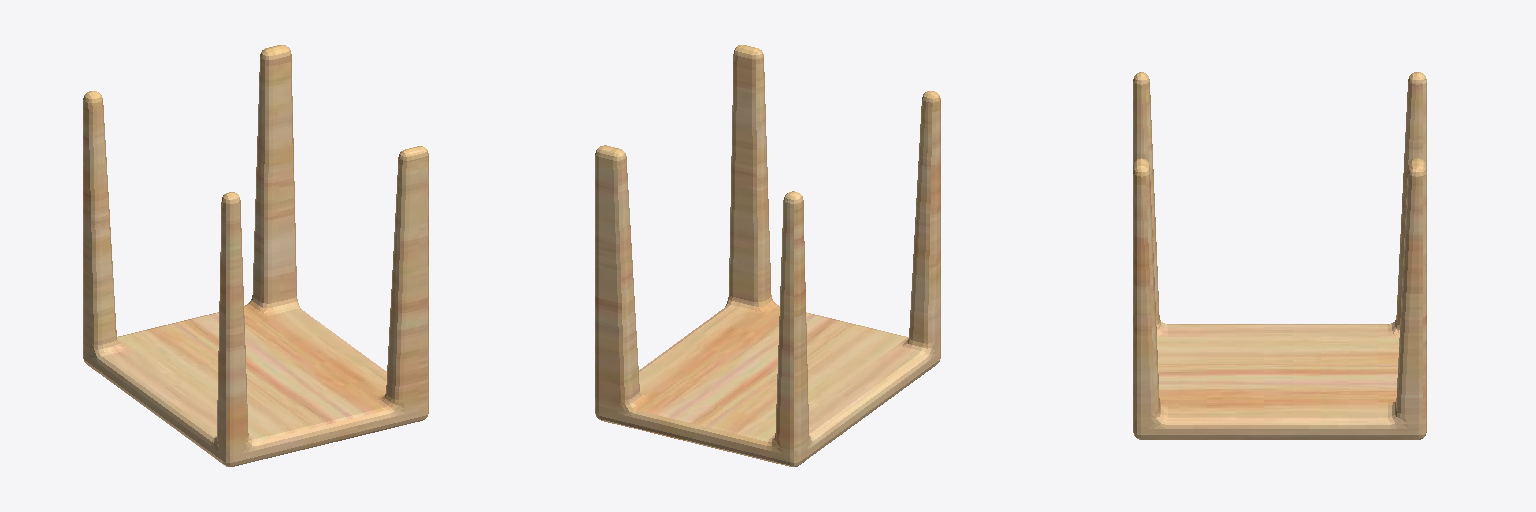
3 views of the same model, side by side, from view 1: azimuth 30°, elevation 25°; view 2: azimuth 150°, elevation 25°; view 3: azimuth 270°, elevation 25° (orthographic).
Visible parts, largest first — view 1: Cube.001_Cube.002; view 2: Cube.001_Cube.002; view 3: Cube.001_Cube.002.
Boxes of the visible parts, x1=… form: Cube.001_Cube.002: x1=83, y1=45, x2=428, y2=466; Cube.001_Cube.002: x1=595, y1=45, x2=940, y2=466; Cube.001_Cube.002: x1=1133, y1=72, x2=1426, y2=439.
Size of the model in its own units: 1.61 by 2.06 by 2.
1 materials, 1 textured.